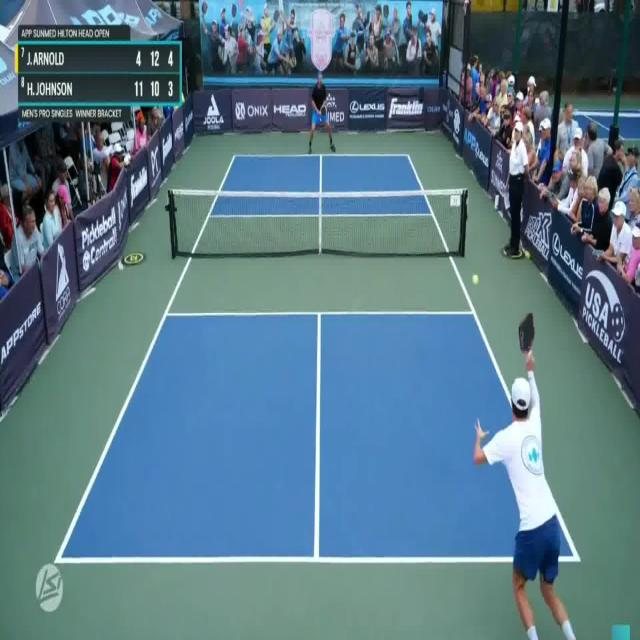ball: (472, 271, 479, 284)
